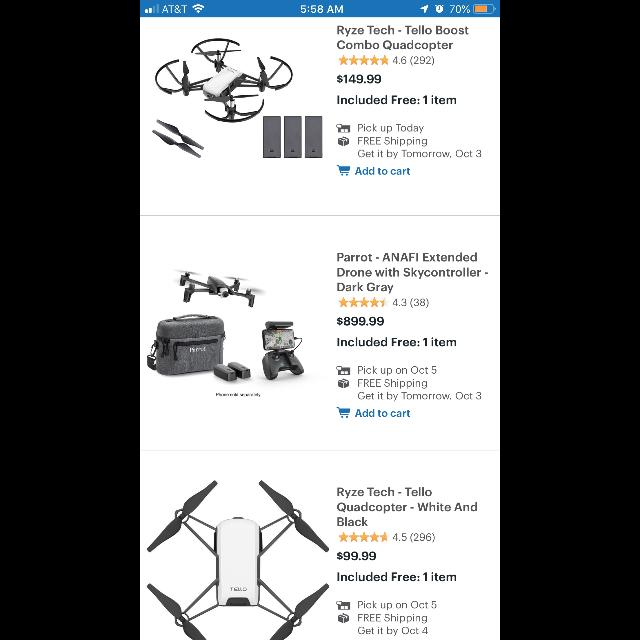icon: (338, 296, 389, 308), (338, 532, 389, 542), (338, 55, 389, 65), (336, 164, 350, 176), (336, 408, 350, 418)
image: (147, 480, 329, 640), (153, 38, 323, 158), (147, 270, 305, 382), (336, 601, 350, 609), (336, 366, 350, 374), (336, 124, 350, 132), (338, 613, 348, 623), (338, 378, 348, 388), (338, 137, 348, 147)
text: (338, 252, 488, 294), (337, 488, 477, 526), (358, 124, 482, 160), (358, 366, 482, 402), (337, 26, 469, 52), (358, 600, 436, 636), (338, 572, 457, 582), (338, 338, 457, 347), (338, 96, 457, 104), (336, 316, 384, 326), (354, 167, 410, 175), (337, 74, 381, 84), (356, 409, 410, 417), (392, 56, 434, 66), (393, 533, 435, 543), (393, 298, 429, 308), (338, 552, 377, 560), (216, 393, 262, 397)
uppertaskbar: (140, 1, 500, 18)
